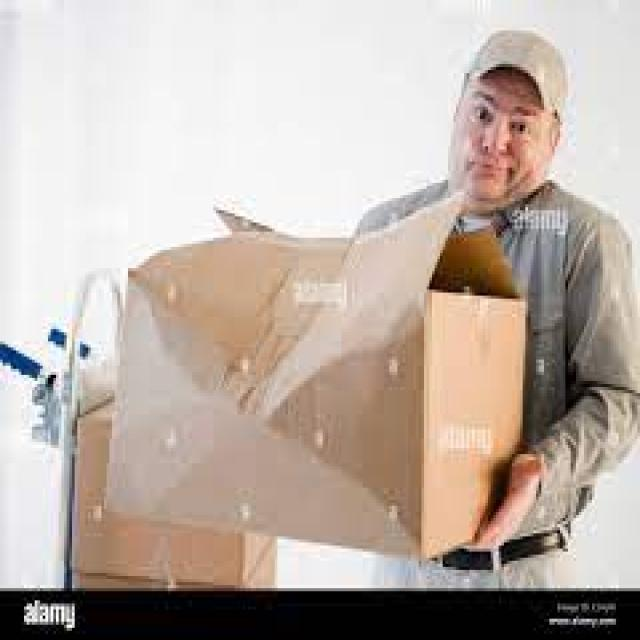Kardus kondisi rusak: (102, 194, 528, 560)
